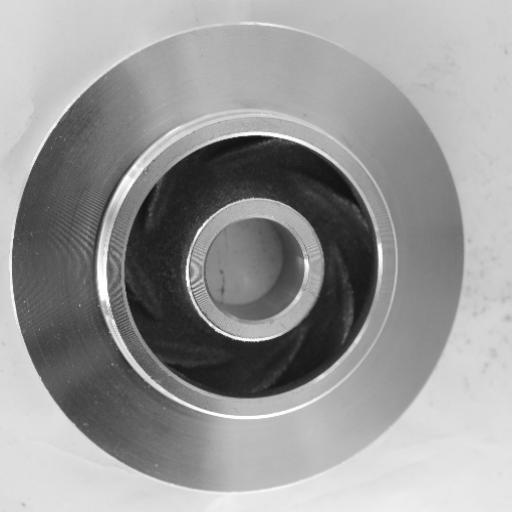polished_casting: (12, 20, 469, 494)
